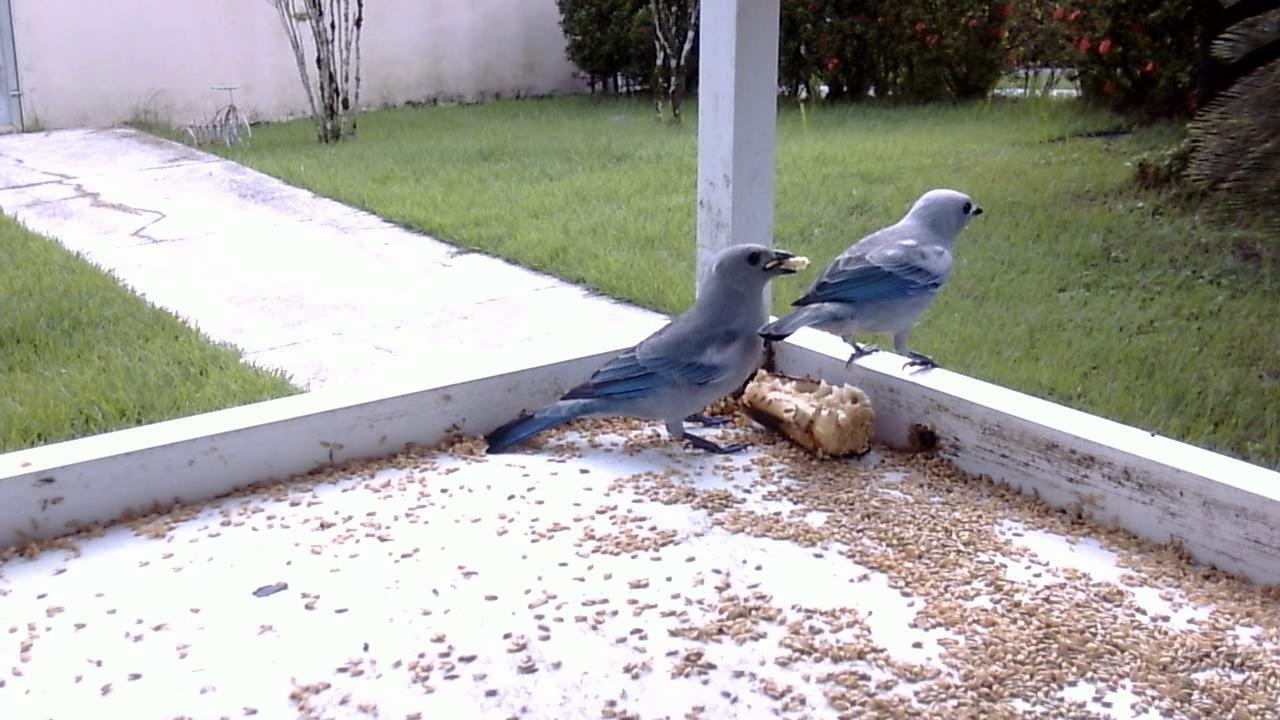sanhaco_da_amazonia: (487, 239, 800, 464), (756, 192, 986, 381)
